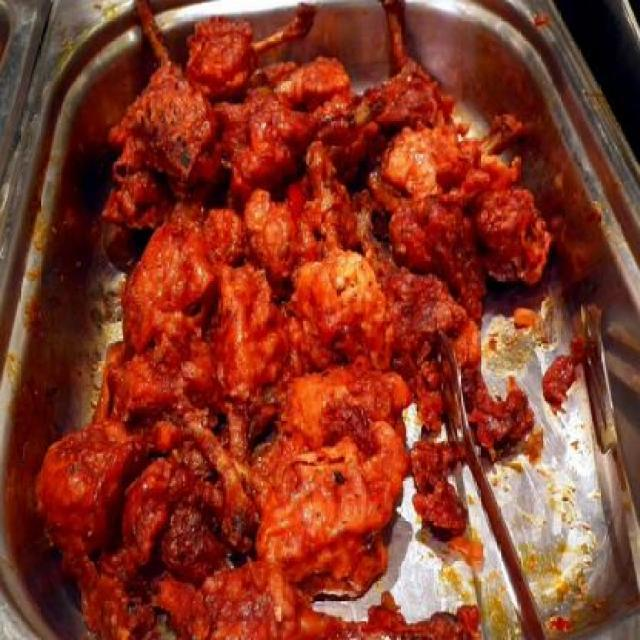Deep fried chicken wing: (37, 26, 546, 614)
